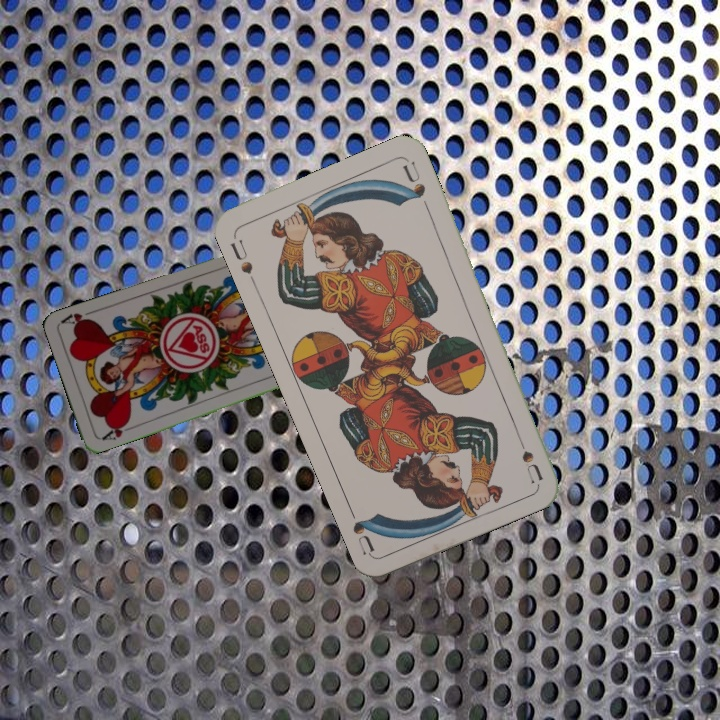HA: (98, 417, 136, 443)
SU: (511, 427, 546, 485), (226, 235, 259, 288)
